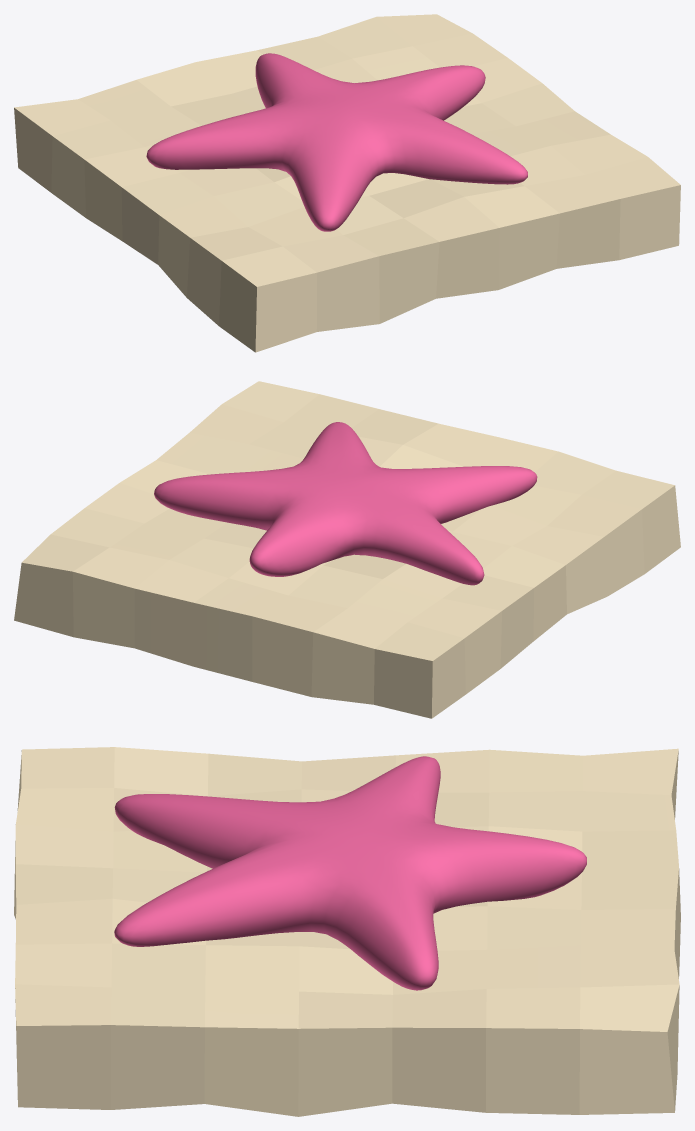
The model's file is starfish.fbx.
3 views of the same model, one above another, from view 1: azimuth 30°, elevation 25°; view 2: azimuth 150°, elevation 25°; view 3: azimuth 270°, elevation 25° (orthographic). The views are drawn at different scales.
Parts seen in each view (by area): view 1: Starfish_4; view 2: Starfish_4; view 3: Starfish_4.
Part boxes in pixels (left/top/right/bottom): Starfish_4: left=14, top=14, right=680, bottom=352; Starfish_4: left=14, top=381, right=680, bottom=718; Starfish_4: left=14, top=747, right=680, bottom=1116.
Bounding box in the file's own units: 197 × 48.43 × 197.
